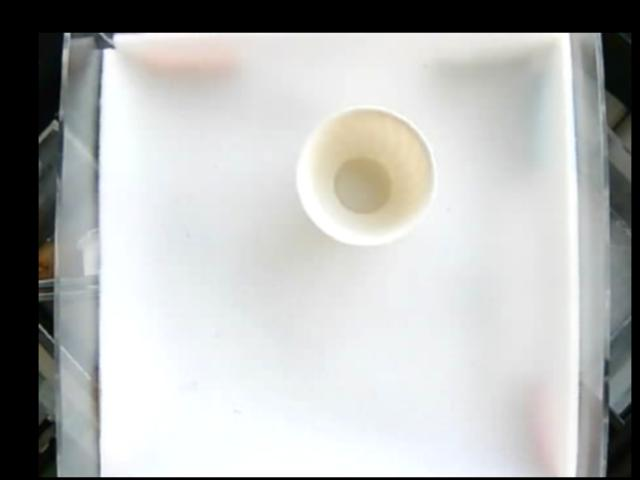Cup: (297, 105, 434, 242)
